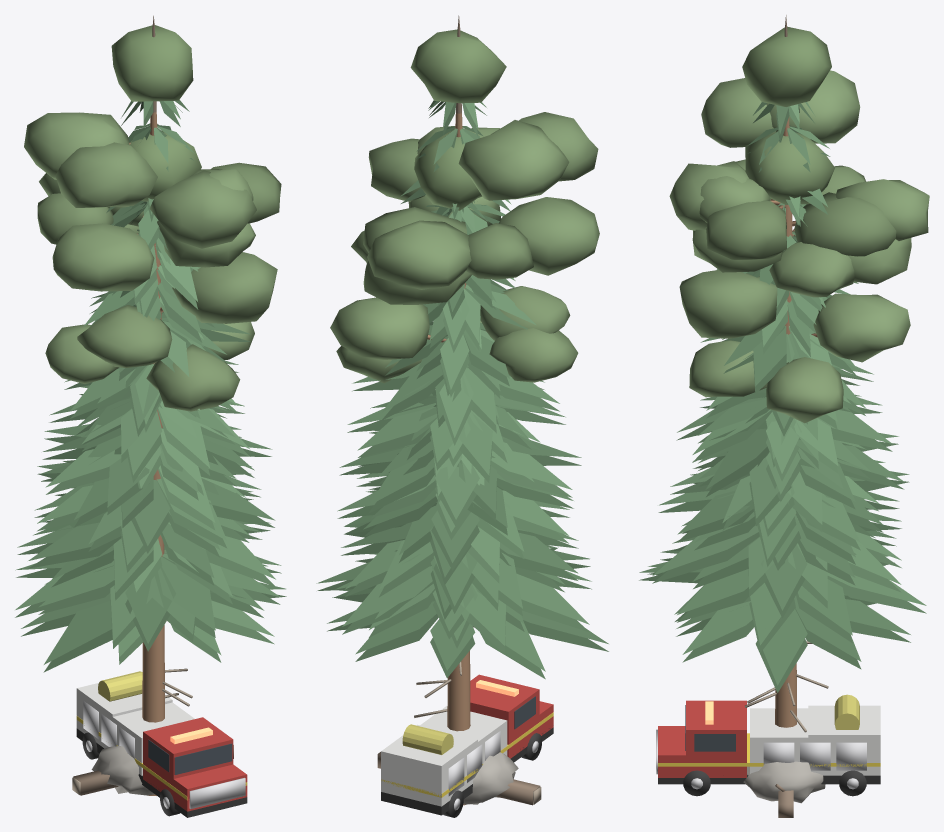
File: props.glb
3 views of the same model, side by side, from view 1: azimuth 30°, elevation 25°; view 2: azimuth 150°, elevation 25°; view 3: azimuth 270°, elevation 25° (orthographic).
Visible parts, largest first — view 1: KEEP Fir2, KEEP Pine2, KEEP Fir, KEEP Pine, KEEP Engine, KEEP RockB, KEEP Log; view 2: KEEP Fir2, KEEP Fir, KEEP Pine, KEEP Pine2, KEEP Engine, KEEP RockB, KEEP Log; view 3: KEEP Fir2, KEEP Pine2, KEEP Fir, KEEP Pine, KEEP Engine, KEEP RockB.
Boxes of the visible parts, left/top/right/bottom form: KEEP Fir2: left=15, top=15, right=281, bottom=706; KEEP Pine2: left=24, top=25, right=281, bottom=722; KEEP Fir: left=15, top=201, right=286, bottom=698; KEEP Pine: left=37, top=130, right=277, bottom=795; KEEP Engine: left=76, top=671, right=247, bottom=817; KEEP RockB: left=91, top=745, right=154, bottom=795; KEEP Log: left=72, top=745, right=233, bottom=795; KEEP Fir2: left=316, top=15, right=590, bottom=717; KEEP Fir: left=327, top=201, right=608, bottom=697; KEEP Pine: left=330, top=129, right=599, bottom=805; KEEP Pine2: left=351, top=29, right=598, bottom=731; KEEP Engine: left=381, top=674, right=553, bottom=817; KEEP RockB: left=463, top=752, right=518, bottom=804; KEEP Log: left=377, top=752, right=541, bottom=805; KEEP Fir2: left=639, top=15, right=926, bottom=732; KEEP Pine2: left=669, top=26, right=911, bottom=727; KEEP Fir: left=647, top=203, right=910, bottom=706; KEEP Pine: left=679, top=132, right=929, bottom=423; KEEP Engine: left=656, top=694, right=880, bottom=796; KEEP RockB: left=743, top=761, right=825, bottom=803.
Size of the model in its own units: 11.04 by 31 by 10.47.
